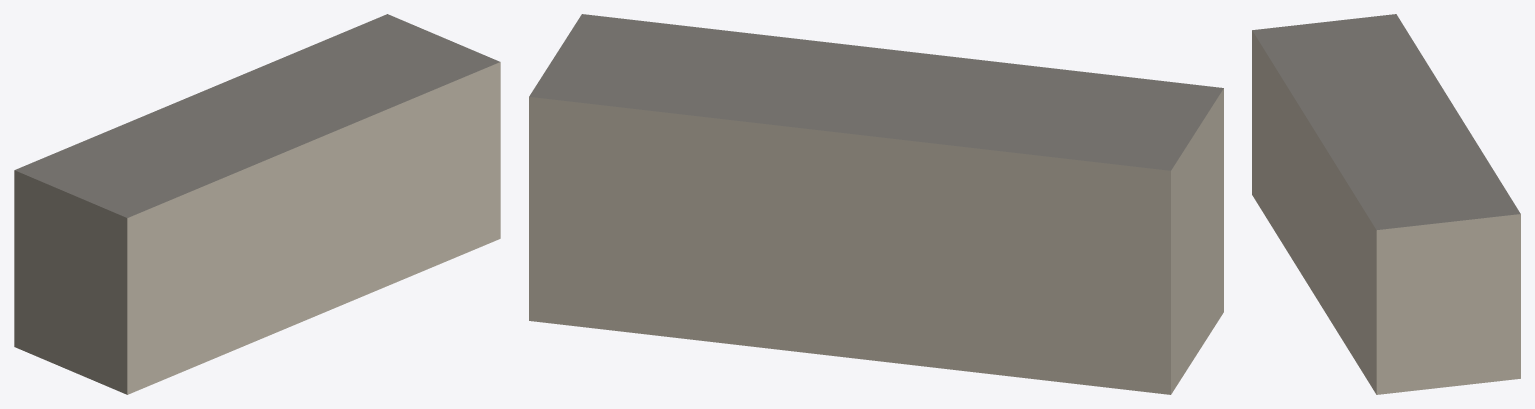
3 views of the same model, side by side, from view 1: azimuth 30°, elevation 25°; view 2: azimuth 150°, elevation 25°; view 3: azimuth 270°, elevation 25° (orthographic). The views are drawn at different scales.
Parts seen in each view (by area): view 1: HP-w1287262150; view 2: HP-w1287262150; view 3: HP-w1287262150.
Part boxes in pixels (x1,y1,x2,y2): HP-w1287262150: (14, 14, 500, 394); HP-w1287262150: (529, 14, 1223, 394); HP-w1287262150: (1252, 14, 1520, 394).
Size of the model in its own units: 50.64 by 18 by 26.6.
